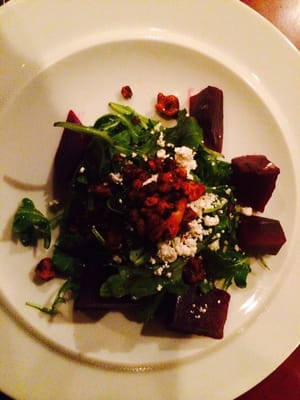curry: (93, 102, 162, 157), (12, 197, 52, 256)
sushi: (1, 0, 300, 360)
